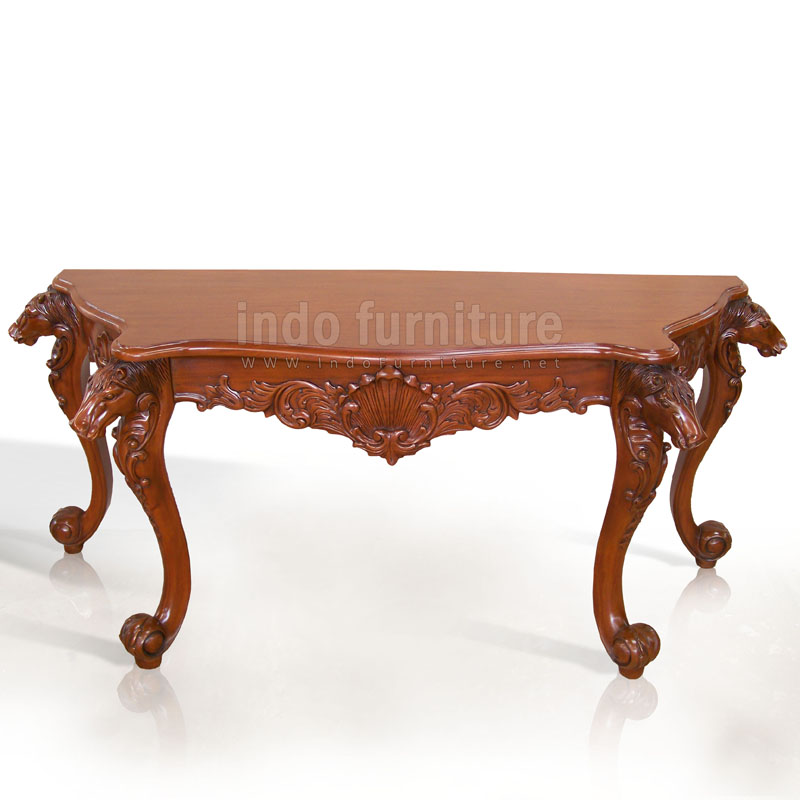Carving Table: (36, 264, 778, 685)
